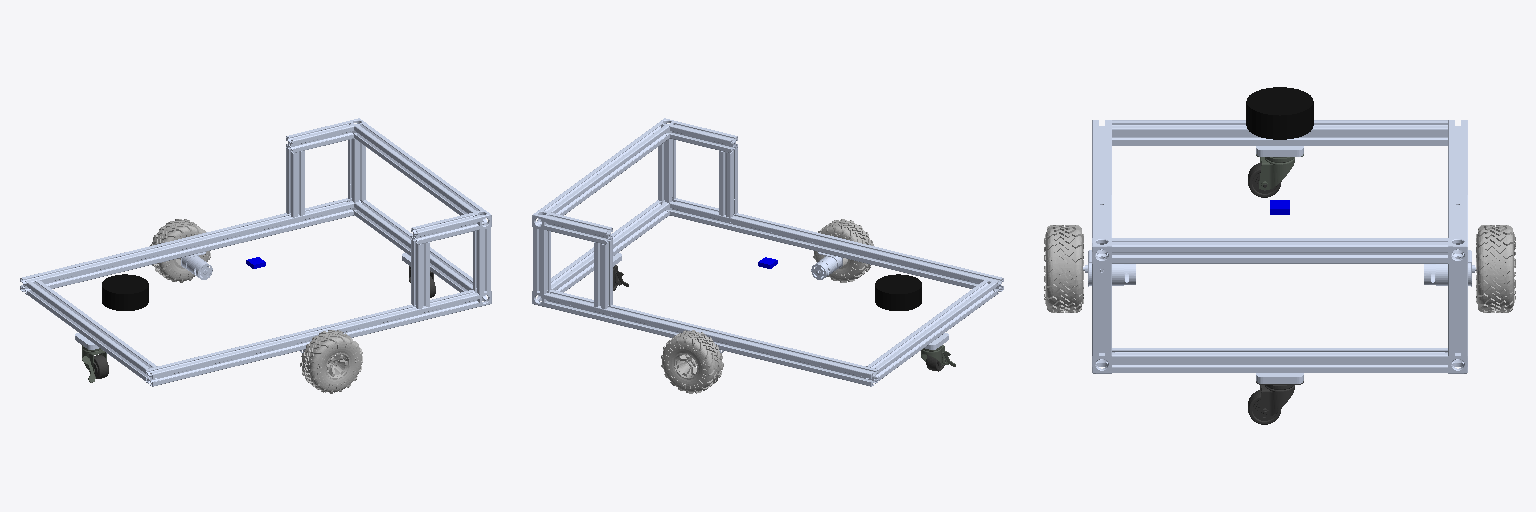
robot.urdf — Wheeled_Base:
<?xml version="1.0" encoding="utf-8"?>
<robot name="Wheeled_Base">

  <!-- ═══════════════════════════════════════════════════
       CHASSIS
  ═══════════════════════════════════════════════════ -->
  <link name="CHASSIS">
    <inertial>
      <origin xyz="0.141596575317463 3.06351797598192E-05 0.0368731174163016" rpy="0 0 0"/>
      <mass value="3.85214064507162"/>
      <inertia ixx="0.0280367432114013" ixy="-1.94418799965282E-08" ixz="3.68581491991962E-10"
               iyy="0.0741766477398675" iyz="-7.93960411555404E-10" izz="0.099710005471166"/>
    </inertial>
    <visual>
      <origin xyz="0 0 0" rpy="0 0 0"/>
      <geometry><mesh filename="package://real_description/meshes/CHASSIS.STL"/></geometry>
      <material name=""><color rgba="0.867 0.910 1 1"/></material>
    </visual>
    <collision>
      <origin xyz="0 0 0" rpy="0 0 0"/>
      <geometry><mesh filename="package://real_description/meshes/CHASSIS.STL"/></geometry>
    </collision>
  </link>

  <!-- ═══════════════════════════════════════════════════
       LEFT WHEEL
  ═══════════════════════════════════════════════════ -->
  <link name="LEFT_WHEEL">
    <inertial>
      <origin xyz="7.15469609002817E-07 -0.000435316178176055 1.43219237691561E-07" rpy="0 0 0"/>
      <mass value="0.172871365054941"/>
      <inertia ixx="0.00026415067034445" ixy="-6.94216331513327E-10" ixz="9.47688308979346E-10"
               iyy="0.00041295850631102" iyz="-1.39676863618059E-10" izz="0.000264146108822354"/>
    </inertial>
    <visual>
      <origin xyz="0 0 0" rpy="0 0 0"/>
      <geometry><mesh filename="package://real_description/meshes/LEFT_WHEEL.STL"/></geometry>
      <material name=""><color rgba="0.753 0.753 0.753 1"/></material>
    </visual>
    <collision>
      <origin xyz="0 0 0" rpy="0 0 0"/>
      <geometry><mesh filename="package://real_description/meshes/LEFT_WHEEL.STL"/></geometry>
    </collision>
  </link>

  <joint name="left_wheel" type="continuous">
    <origin xyz="0 0.320999820000179 -0.0509998800001172" rpy="0 0 0"/>
    <parent link="CHASSIS"/>
    <child  link="LEFT_WHEEL"/>
    <axis xyz="0 1 0"/>
    <dynamics damping="0.05" friction="0.2"/>
  </joint>

  <!-- ═══════════════════════════════════════════════════
       RIGHT WHEEL
  ═══════════════════════════════════════════════════ -->
  <link name="RIGHT_WHEEL">
    <inertial>
      <origin xyz="-6.4057294135722E-07 -0.000435317987241501 -3.49392368793888E-07" rpy="0 0 0"/>
      <mass value="0.172871331048852"/>
      <inertia ixx="0.000264149727072614" ixy="6.21333479649486E-10" ixz="2.07473043228133E-09"
               iyy="0.000412958504217706" iyz="3.39693702665804E-10" izz="0.000264147047163848"/>
    </inertial>
    <visual>
      <origin xyz="0 0 0" rpy="0 0 0"/>
      <geometry><mesh filename="package://real_description/meshes/RIGHT_WHEEL.STL"/></geometry>
      <material name=""><color rgba="0.753 0.753 0.753 1"/></material>
    </visual>
    <collision>
      <origin xyz="0 0 0" rpy="0 0 0"/>
      <geometry><mesh filename="package://real_description/meshes/RIGHT_WHEEL.STL"/></geometry>
    </collision>
  </link>

  <joint name="right_wheel" type="continuous">
    <origin xyz="0 -0.32100005999994 -0.0509998800001111" rpy="3.14159265358979 0 0"/>
    <parent link="CHASSIS"/>
    <child  link="RIGHT_WHEEL"/>
    <axis xyz="0 1 0"/>
    <dynamics damping="0.05" friction="0.2"/>
  </joint>

  <!-- ═══════════════════════════════════════════════════
       FRONT SWIVEL + ROLLING
  ═══════════════════════════════════════════════════ -->
  <link name="FRONT_SWIVEL">
    <inertial>
      <origin xyz="-0.0013624425329018 -0.00374273524947871 -0.00167971374459603" rpy="0 0 0"/>
      <mass value="0.0328328826420678"/>
      <inertia ixx="8.17465482226448E-06" ixy="9.65823853357969E-09" ixz="1.0262490366987E-07"
               iyy="7.44752607271619E-06" iyz="-1.06256948830954E-06" izz="1.09255320334295E-05"/>
    </inertial>
    <visual>
      <origin xyz="0 0 0" rpy="0 0 0"/>
      <geometry><mesh filename="package://real_description/meshes/FRONT_SWIVEL.STL"/></geometry>
      <material name=""><color rgba="0.294 0.294 0.294 1"/></material>
    </visual>
    <collision>
      <origin xyz="0 0 0" rpy="0 0 0"/>
      <geometry><mesh filename="package://real_description/meshes/FRONT_SWIVEL.STL"/></geometry>
    </collision>
  </link>

  <joint name="front_swivel" type="continuous">
    <origin xyz="0.399999940000059 0 -0.0540828883294461" rpy="0 0 0"/>
    <parent link="CHASSIS"/>
    <child  link="FRONT_SWIVEL"/>
    <axis xyz="0 0 1"/>
    <dynamics damping="0.005" friction="0.02"/>
  </joint>

  <link name="FRONT_ROLLING">
    <inertial>
      <origin xyz="0 0 -1.73472347597681E-17" rpy="0 0 0"/>
      <mass value="0.0472944068607781"/>
      <inertia ixx="9.50735464480307E-06" ixy="2.2264335997598E-21" ixz="-7.6762360844921E-22"
               iyy="9.50735464480307E-06" iyz="5.28823003569254E-22" izz="1.4188378350207E-05"/>
    </inertial>
    <visual>
      <origin xyz="0 0 0" rpy="0 0 0"/>
      <geometry><mesh filename="package://real_description/meshes/FRONT_ROLLING.STL"/></geometry>
      <material name=""><color rgba="0.294 0.294 0.294 1"/></material>
    </visual>
    <collision>
      <origin xyz="0 0 0" rpy="0 0 0"/>
      <geometry><mesh filename="package://real_description/meshes/FRONT_ROLLING.STL"/></geometry>
    </collision>
  </link>

  <joint name="front_rolling" type="continuous">
    <origin xyz="0.000959824507811111 -0.0229799638144669 -0.037" rpy="-1.5707963267949 0 -1.5290527042589"/>
    <parent link="FRONT_SWIVEL"/>
    <child  link="FRONT_ROLLING"/>
    <axis xyz="0 0 1"/>
    <dynamics damping="0.01" friction="0.05"/>
  </joint>

  <!-- ═══════════════════════════════════════════════════
       REAR SWIVEL + ROLLING
  ═══════════════════════════════════════════════════ -->
  <link name="REAR_SWIVELING">
    <inertial>
      <origin xyz="-0.00136244253290196 -0.00374273524947866 -0.00167971374459558" rpy="0 0 0"/>
      <mass value="0.0328328826420671"/>
      <inertia ixx="8.17465482226413E-06" ixy="9.65823853354646E-09" ixz="1.02624903669841E-07"
               iyy="7.44752607271595E-06" iyz="-1.06256948830951E-06" izz="1.09255320334292E-05"/>
    </inertial>
    <visual>
      <origin xyz="0 0 0" rpy="0 0 0"/>
      <geometry><mesh filename="package://real_description/meshes/REAR_SWIVELING.STL"/></geometry>
      <material name=""><color rgba="0.388 0.420 0.388 1"/></material>
    </visual>
    <collision>
      <origin xyz="0 0 0" rpy="0 0 0"/>
      <geometry><mesh filename="package://real_description/meshes/REAR_SWIVELING.STL"/></geometry>
    </collision>
  </link>

  <joint name="rear_swiveling" type="continuous">
    <origin xyz="-0.400000059999942 0 -0.0540828883294474" rpy="0 0 0"/>
    <parent link="CHASSIS"/>
    <child  link="REAR_SWIVELING"/>
    <axis xyz="0 0 1"/>
    <dynamics damping="0.005" friction="0.02"/>
  </joint>

  <link name="REAR_ROLLING">
    <inertial>
      <origin xyz="1.11022302462516E-16 -1.38777878078145E-17 0" rpy="0 0 0"/>
      <mass value="0.047294406860778"/>
      <inertia ixx="1.4180226262601E-05" ixy="1.17799425151627E-20" ixz="-1.95175968806119E-07"
               iyy="9.50735464480305E-06" iyz="-2.37038944284727E-21" izz="9.51550673240895E-06"/>
    </inertial>
    <visual>
      <origin xyz="0 0 0" rpy="0 0 0"/>
      <geometry><mesh filename="package://real_description/meshes/REAR_ROLLING.STL"/></geometry>
      <material name=""><color rgba="0.294 0.294 0.294 1"/></material>
    </visual>
    <collision>
      <origin xyz="0 0 0" rpy="0 0 0"/>
      <geometry><mesh filename="package://real_description/meshes/REAR_ROLLING.STL"/></geometry>
    </collision>
  </link>

  <joint name="rear_rolling" type="continuous">
    <origin xyz="0.000959824507811069 -0.0229799638144668 -0.037" rpy="1.5707963267949 0 3.14159265358979"/>
    <parent link="REAR_SWIVELING"/>
    <child  link="REAR_ROLLING"/>
    <axis xyz="0.999128861498558 0 -0.041731500339619"/>
    <dynamics damping="0.01" friction="0.05"/>
  </joint>




  <!-- ═══════════════════════════════════════════════════
       LIDAR
  ═══════════════════════════════════════════════════ -->
  <link name="lidar_link">
    <visual>
      <origin xyz="0 0 0" rpy="0 0 0"/>
      <geometry><cylinder radius="0.05" length="0.04"/></geometry>
      <material name="lidar_black"><color rgba="0.1 0.1 0.1 1"/></material>
    </visual>
    <collision>
      <origin xyz="0 0 0" rpy="0 0 0"/>
      <geometry><cylinder radius="0.05" length="0.04"/></geometry>
    </collision>
    <inertial>
      <mass value="0.170"/>
      <origin xyz="0 0 0" rpy="0 0 0"/>
      <inertia ixx="0.0001" ixy="0" ixz="0"
               iyy="0.0001" iyz="0" izz="0.0001"/>
    </inertial>
  </link>

  <joint name="lidar_joint" type="fixed">
    <parent link="CHASSIS"/>
    <child  link="lidar_link"/>
    <origin xyz="-0.32 0.0 0.055" rpy="0 0 0"/>
  </joint>

  <!-- ═══════════════════════════════════════════════════
       IMU — MPU-6050 (mounted on ESP32, on the chassis)
       djust xyz to match actual physical position
  ═════════════════════════════════════════ -->
  <link name="imu_link">
    <visual>
      <origin xyz="0 0 0" rpy="0 0 0"/>
      <geometry><box size="0.03 0.03 0.01"/></geometry>
      <material name="imu_blue"><color rgba="0.0 0.0 1.0 1"/></material>
    </visual>
    <inertial>
      <mass value="0.01"/>
      <origin xyz="0 0 0" rpy="0 0 0"/>
      <inertia ixx="0.000001" ixy="0" ixz="0"
               iyy="0.000001" iyz="0" izz="0.000001"/>
    </inertial>
  </link>

  <joint name="imu_joint" type="fixed">
    <parent link="CHASSIS"/>
    <child  link="imu_link"/>
    <origin xyz="0.0 0.0 0.05" rpy="0 0 0"/>
  </joint>
</robot>
  

--- What the picture shows (computed from the rendered views, not written in the file) ---
The picture shows the robot from 3 angles, left to right: view 1: azimuth 30°, elevation 25°; view 2: azimuth 150°, elevation 25°; view 3: azimuth 270°, elevation 25°; orthographic projection.
Model Wheeled_Base with 9 links and 8 joints (6 continuous, 2 fixed), rooted at CHASSIS, posed all joints at 0.
Links seen in each view (by area): view 1: CHASSIS, RIGHT_WHEEL, lidar_link, LEFT_WHEEL; view 2: CHASSIS, LEFT_WHEEL, lidar_link, RIGHT_WHEEL; view 3: CHASSIS, RIGHT_WHEEL, LEFT_WHEEL, lidar_link, FRONT_SWIVEL, REAR_SWIVELING.
Link boxes in pixels (bbox=[...]): CHASSIS: bbox=[20, 118, 491, 386]; RIGHT_WHEEL: bbox=[300, 330, 362, 393]; lidar_link: bbox=[102, 274, 148, 310]; LEFT_WHEEL: bbox=[150, 219, 210, 282]; CHASSIS: bbox=[532, 118, 1003, 386]; LEFT_WHEEL: bbox=[661, 330, 723, 393]; lidar_link: bbox=[875, 274, 921, 310]; RIGHT_WHEEL: bbox=[813, 219, 873, 282]; CHASSIS: bbox=[1083, 120, 1476, 383]; RIGHT_WHEEL: bbox=[1044, 225, 1083, 312]; LEFT_WHEEL: bbox=[1476, 225, 1515, 312]; lidar_link: bbox=[1246, 87, 1313, 139]; FRONT_SWIVEL: bbox=[1256, 381, 1303, 416]; REAR_SWIVELING: bbox=[1256, 154, 1303, 189].
Bounding box of the posed robot: 0.8633 × 0.7012 × 0.2965 m (x, y, z).
Meshes: 7 distinct files referenced, 7 mesh visuals loaded (7 binary STL).
